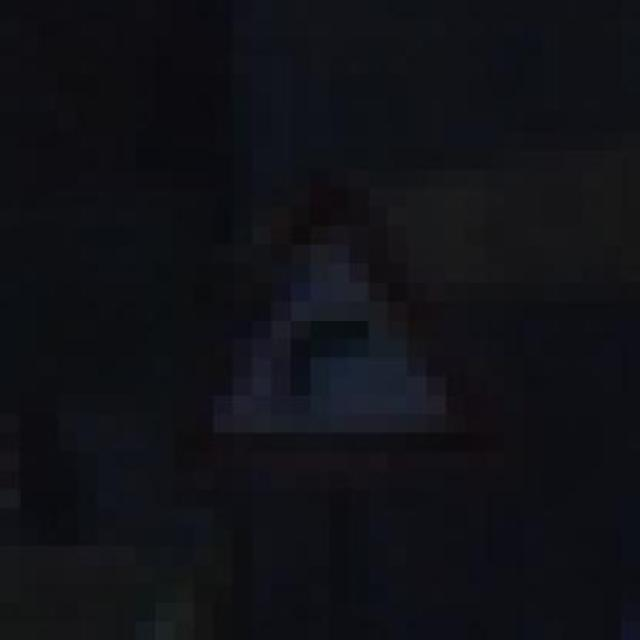Dangerous Rright Curve Ahead: (136, 169, 504, 489)
